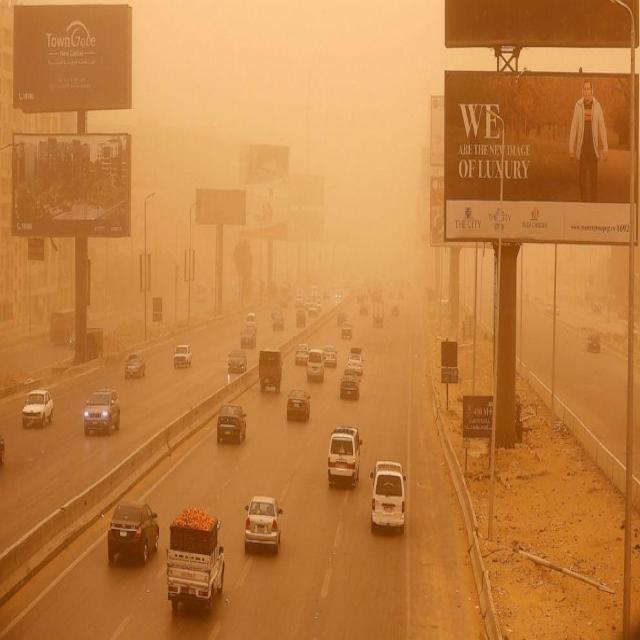Car: (166, 510, 228, 612), (105, 499, 159, 565), (367, 461, 411, 528), (242, 497, 285, 557), (85, 388, 124, 440), (18, 380, 61, 424), (217, 406, 248, 443), (286, 390, 312, 422), (124, 351, 148, 381), (172, 345, 194, 371), (340, 372, 362, 398), (227, 348, 247, 374), (346, 348, 364, 370), (240, 328, 257, 348), (295, 345, 310, 367), (324, 346, 338, 366), (296, 308, 306, 329), (246, 312, 256, 330), (308, 305, 320, 320), (340, 324, 353, 336)
Truck: (258, 350, 284, 392), (372, 298, 385, 328)
Van: (325, 428, 364, 488), (306, 348, 325, 380)
